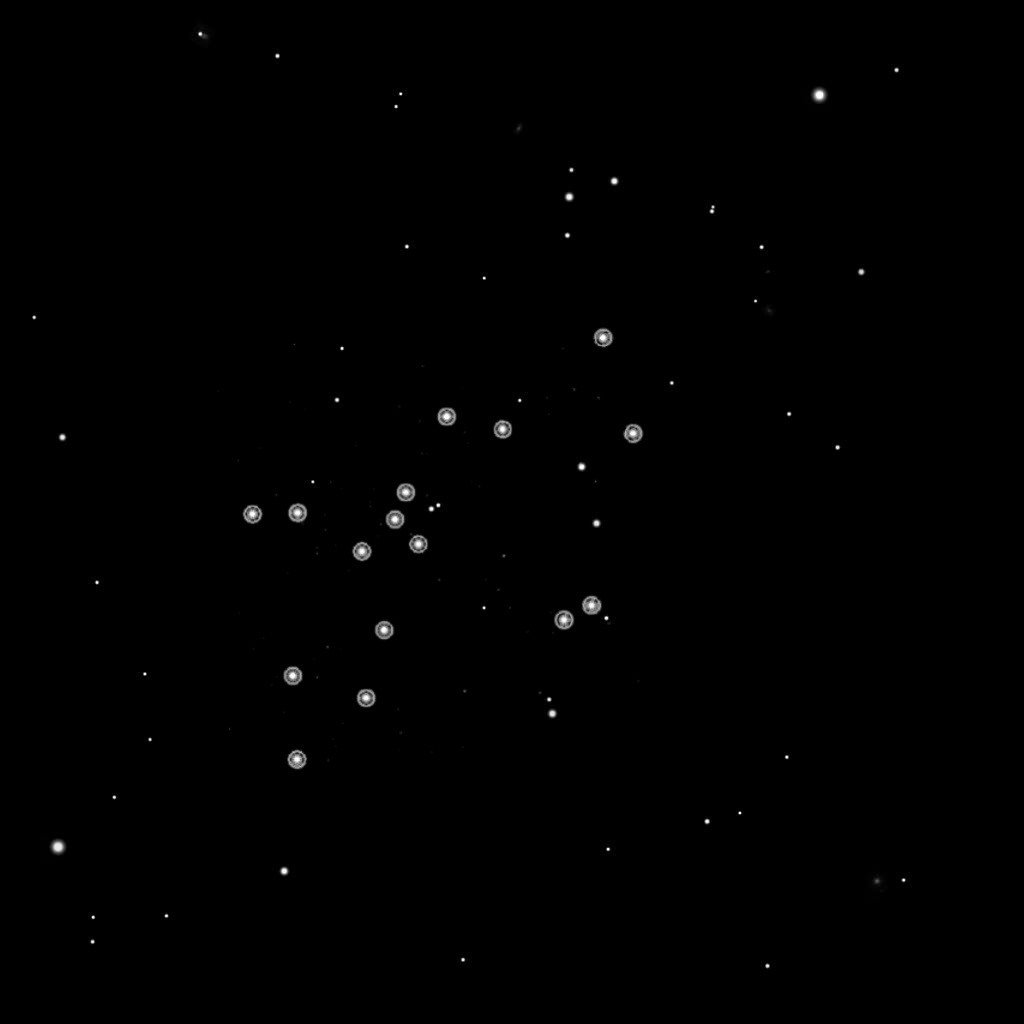canis_major: (347, 403, 516, 564)
